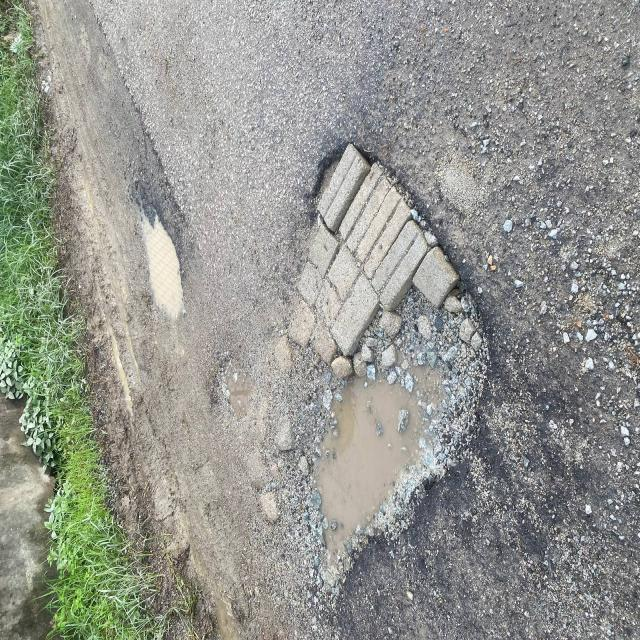Pothole: (197, 99, 540, 582)
